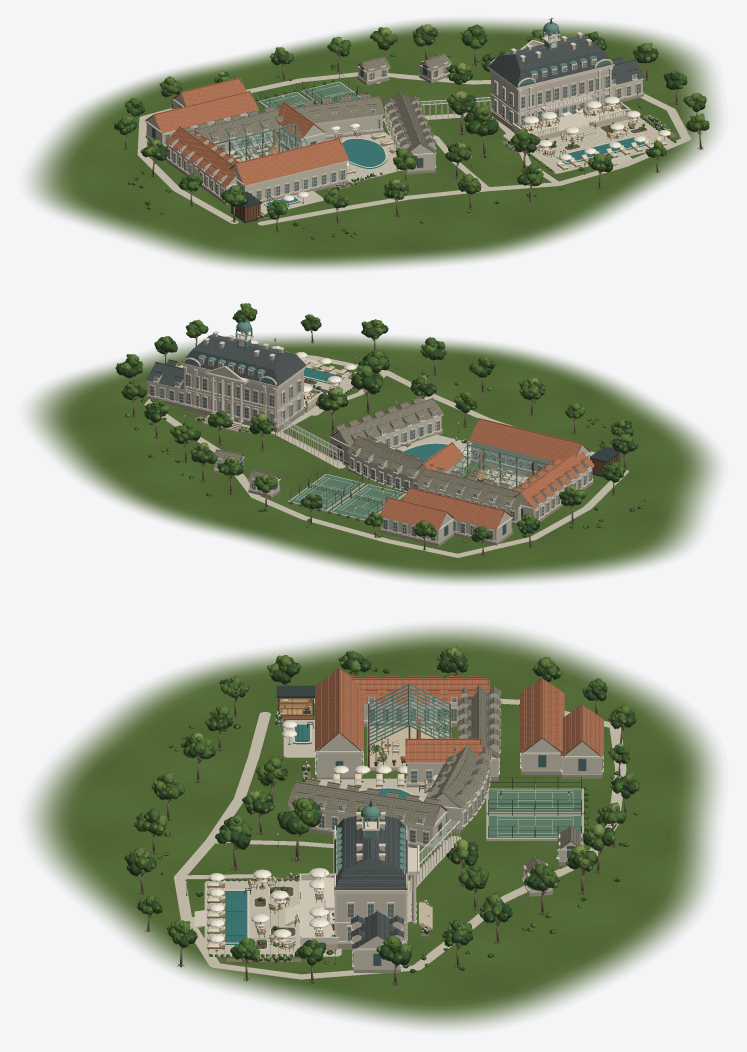
The model's file is maryhill-estate.glb.
The picture shows the model from 3 angles, top to bottom: view 1: azimuth 30°, elevation 25°; view 2: azimuth 150°, elevation 25°; view 3: azimuth 270°, elevation 25°; orthographic projection. The views are drawn at different scales.
Visible parts, largest first — view 1: Ground_Fade, Gravel, RedRoof, Trim, RoofBeige, SugarWalls, SlateSeams, TileSeams, Slate, WindowFrames, Glass, Hill House | Facade (+23 smaller); view 2: Ground_Fade, Trim, RedRoof, RoofBeige, SugarWalls, Gravel, SlateSeams, TileSeams, Slate, WindowFrames, Glass, Tennis courts | CourtGreen (+15 smaller); view 3: Ground_Fade, RedRoof, Gravel, RoofBeige, SugarWalls, Trim, TileSeams, SlateSeams, Slate, Tennis courts | CourtGreen, PatinatedCopper, Maryhill garden / canvas (+24 smaller).
Boxes of the visible parts, left/top/right/bottom form: Ground_Fade: left=29, top=19, right=718, bottom=269; Gravel: left=137, top=72, right=690, bottom=225; RedRoof: left=145, top=77, right=348, bottom=186; Trim: left=145, top=32, right=644, bottom=201; RoofBeige: left=182, top=53, right=451, bottom=152; SugarWalls: left=146, top=60, right=642, bottom=200; SlateSeams: left=185, top=35, right=643, bottom=151; TileSeams: left=155, top=79, right=348, bottom=185; Slate: left=488, top=36, right=644, bottom=87; WindowFrames: left=165, top=59, right=640, bottom=200; Glass: left=152, top=60, right=640, bottom=199; Hill House | Facade: left=491, top=42, right=608, bottom=125; Ground_Fade: left=29, top=335, right=718, bottom=583; Trim: left=146, top=331, right=593, bottom=542; RedRoof: left=380, top=418, right=594, bottom=530; RoofBeige: left=214, top=397, right=524, bottom=509; SugarWalls: left=148, top=362, right=592, bottom=543; Gravel: left=144, top=353, right=628, bottom=557; SlateSeams: left=147, top=334, right=522, bottom=507; TileSeams: left=381, top=420, right=591, bottom=528; Slate: left=146, top=335, right=306, bottom=388; WindowFrames: left=150, top=358, right=591, bottom=541; Glass: left=150, top=359, right=591, bottom=540; Tennis courts | CourtGreen: left=290, top=474, right=403, bottom=519; Ground_Fade: left=29, top=626, right=718, bottom=1028; RedRoof: left=315, top=667, right=603, bottom=762; Gravel: left=174, top=698, right=626, bottom=979; RoofBeige: left=287, top=683, right=584, bottom=876; SugarWalls: left=289, top=693, right=601, bottom=969; Trim: left=288, top=695, right=603, bottom=967; TileSeams: left=315, top=670, right=603, bottom=761; SlateSeams: left=288, top=686, right=583, bottom=947; Slate: left=334, top=816, right=407, bottom=948; Tennis courts | CourtGreen: left=488, top=789, right=581, bottom=837; PatinatedCopper: left=336, top=683, right=450, bottom=873; Maryhill garden / canvas: left=208, top=720, right=437, bottom=947.
Size of the model in its own units: 69.5 by 9.49 by 50.35.
